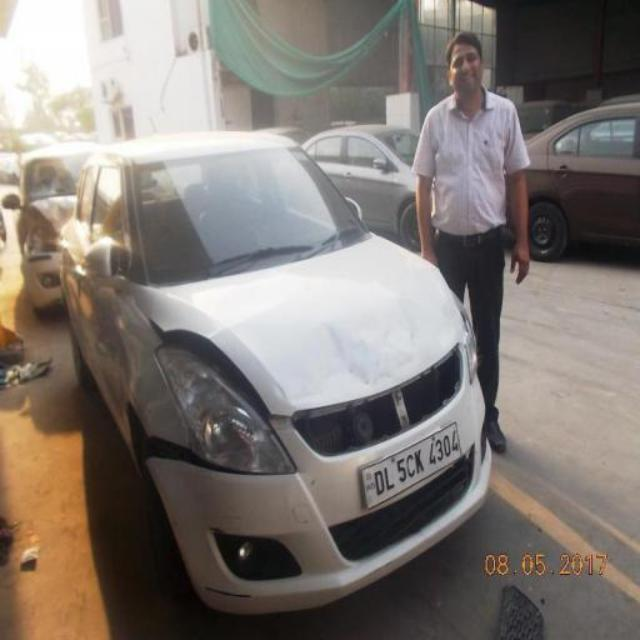crack: (204, 584, 251, 600), (207, 524, 227, 533)
dent: (271, 298, 460, 408)
dislocated part: (149, 317, 274, 432), (146, 430, 279, 478), (270, 411, 297, 437)
no part: (293, 338, 467, 460)
scratch: (206, 277, 333, 340), (336, 275, 455, 322), (152, 467, 179, 529), (373, 262, 438, 285), (219, 510, 244, 521)
